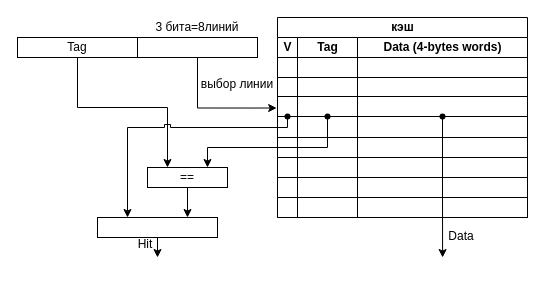
Image size: 545x283. Some labels were removed from this diagram. The centre of each missing label's shape, as x and y in pixels:
"AND" goes at [157,227].
"Index" goes at [197,47].
